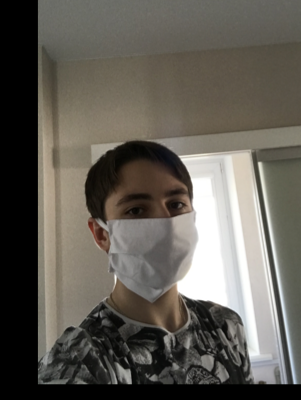with_mask: (104, 181, 197, 302)
